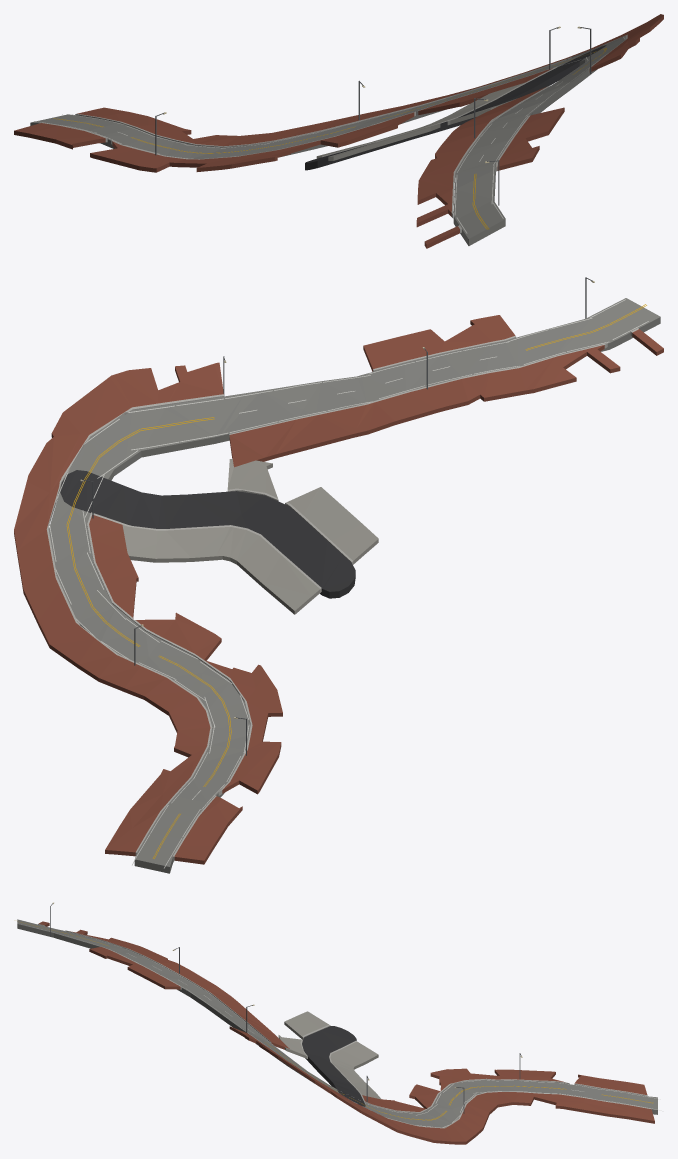
3 renders of one model, top to bottom at view 1: azimuth 30°, elevation 25°; view 2: azimuth 150°, elevation 25°; view 3: azimuth 270°, elevation 25°, orthographic. The views are drawn at different scales.
Size of the model in its own units: 77.07 by 50.33 by 148.
